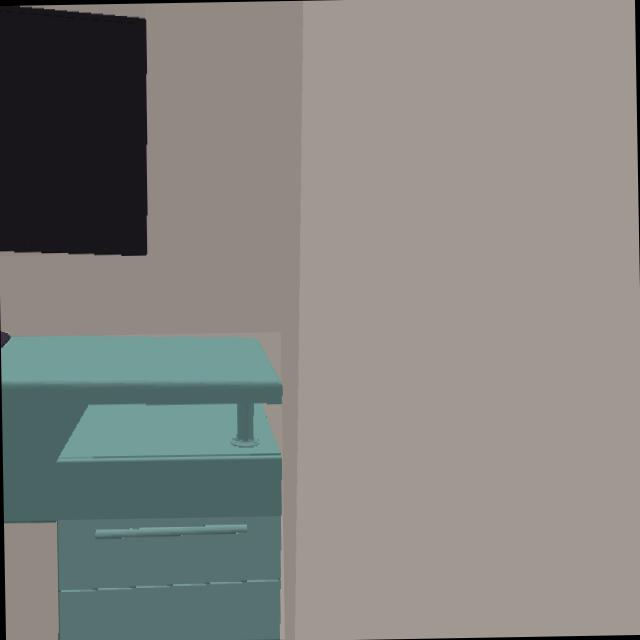cabinet: (58, 404, 281, 640)
monitor: (0, 6, 145, 253), (0, 332, 8, 346)
table: (0, 337, 281, 520)
